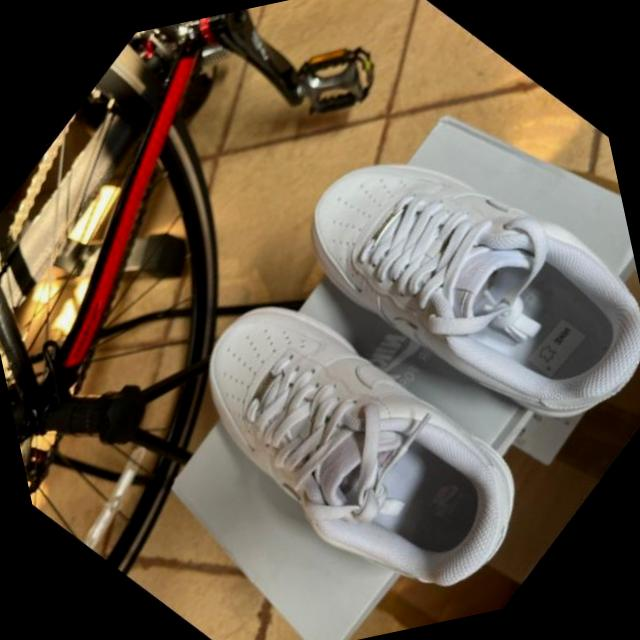nike_original_airforce: (246, 49, 640, 521), (130, 221, 573, 640)
